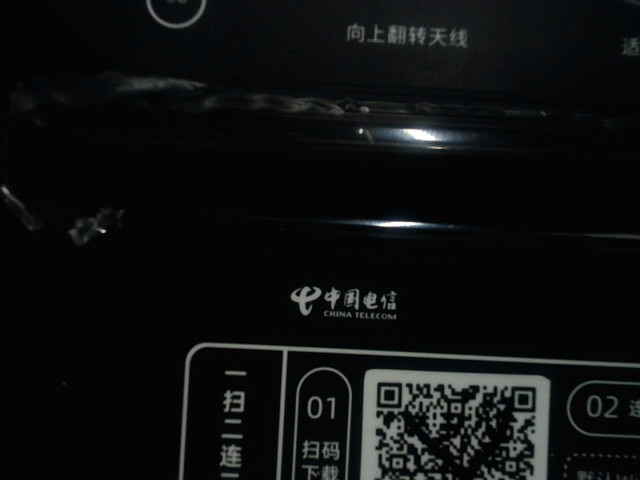AB_ChinaTelecom: (282, 279, 413, 328)
